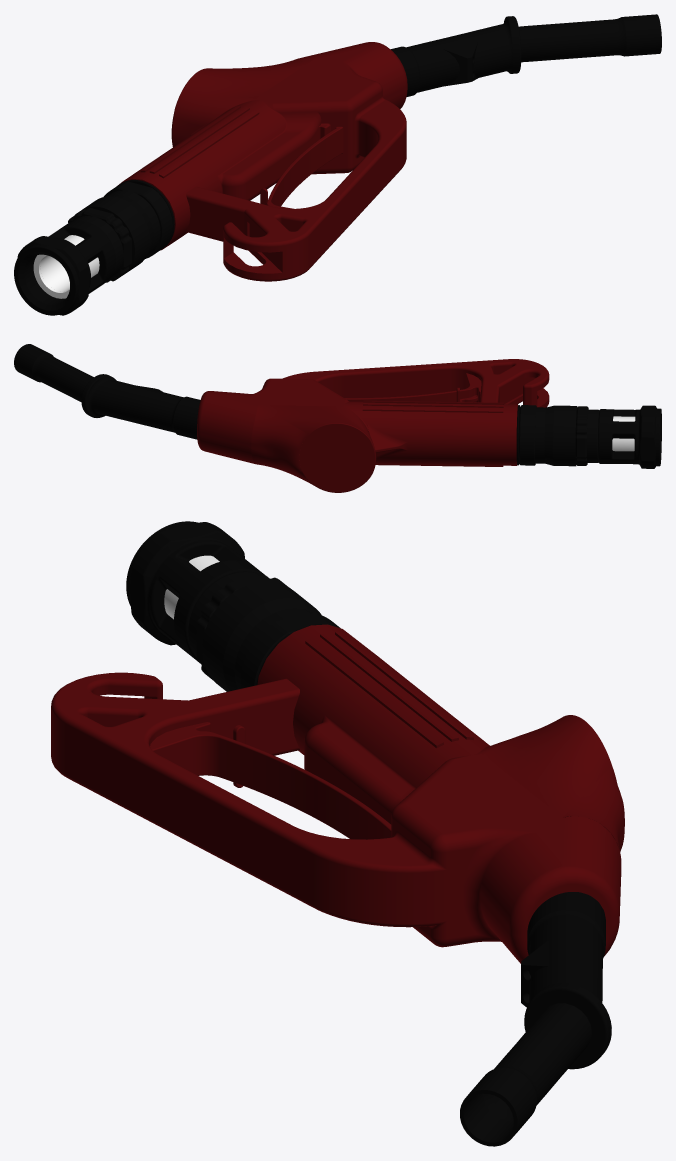
Rendered from jiayouqiang.fbx.
3 renders of one model, top to bottom at view 1: azimuth 30°, elevation 25°; view 2: azimuth 150°, elevation 25°; view 3: azimuth 270°, elevation 25°, orthographic. The views are drawn at different scales.
Visible parts, largest first — view 1: 1016, 1014, 1010, 1012, 1007, 1008; view 2: 1016, 1014, 1012, 1010, 1015, 1007; view 3: 1016, 1014, 1012, 1010, 1015.
Boxes of the visible parts, bbox=[...] form: 1016: bbox=[117, 42, 407, 281]; 1014: bbox=[391, 14, 661, 96]; 1010: bbox=[14, 220, 115, 315]; 1012: bbox=[68, 181, 172, 282]; 1007: bbox=[40, 235, 99, 291]; 1008: bbox=[33, 254, 69, 298]; 1016: bbox=[197, 359, 549, 492]; 1014: bbox=[14, 344, 200, 439]; 1012: bbox=[519, 405, 599, 466]; 1010: bbox=[598, 405, 661, 468]; 1015: bbox=[251, 405, 308, 480]; 1007: bbox=[612, 416, 635, 451]; 1016: bbox=[51, 624, 621, 963]; 1014: bbox=[460, 892, 611, 1146]; 1012: bbox=[188, 572, 340, 691]; 1010: bbox=[126, 521, 264, 660]; 1015: bbox=[563, 766, 624, 852].
Bounding box in the file's own units: 47.08 × 5.48 × 20.41.
